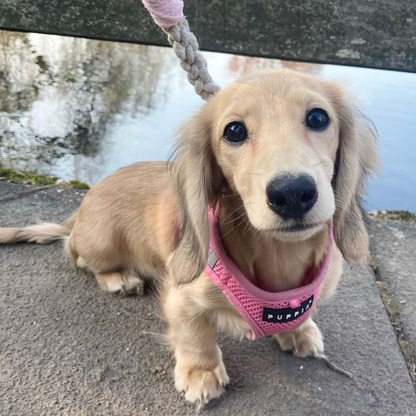dachshund: (15, 48, 376, 390)
